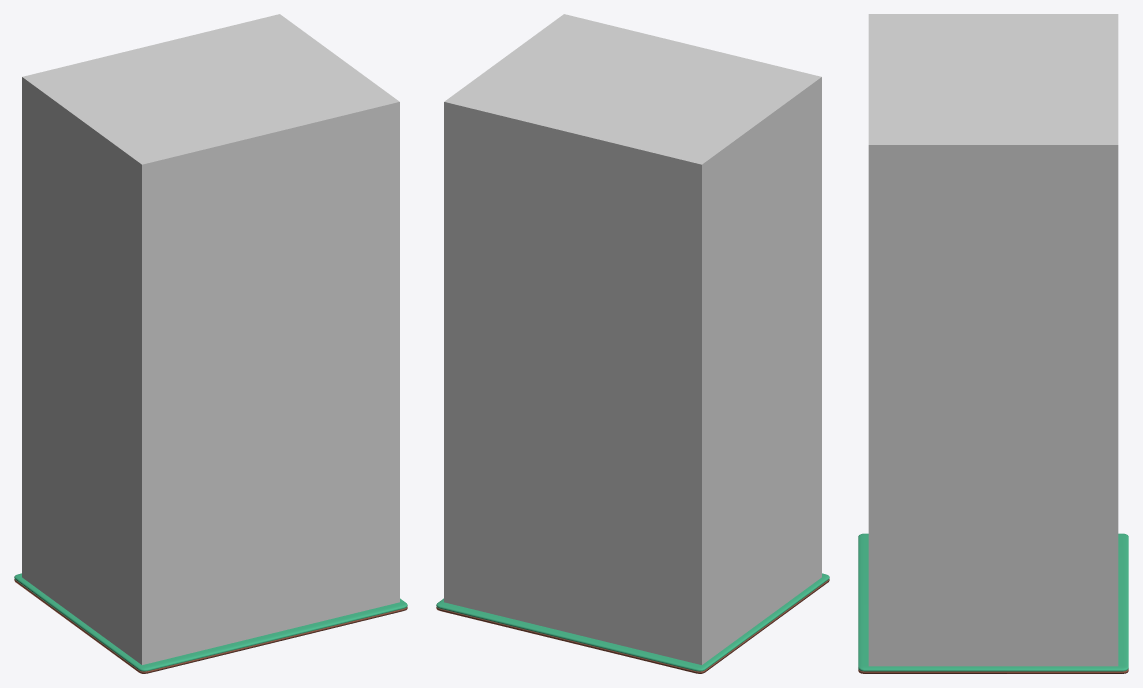
Rendered from map.fbx.
The picture shows the model from 3 angles, left to right: view 1: azimuth 30°, elevation 25°; view 2: azimuth 150°, elevation 25°; view 3: azimuth 270°, elevation 25°; orthographic projection. The views are drawn at different scales.
Parts seen in each view (by area): view 1: Cube, tileLarge_forest; view 2: Cube, tileLarge_forest; view 3: Cube, tileLarge_forest.
Boxes of the visible parts, <box> form: Cube: <box>22,14,399,664</box>; tileLarge_forest: <box>14,573,407,673</box>; Cube: <box>444,14,821,664</box>; tileLarge_forest: <box>436,573,829,673</box>; Cube: <box>868,14,1118,666</box>; tileLarge_forest: <box>858,533,1128,673</box>.
Bounding box in the file's own units: 4951 × 9097 × 4160.
